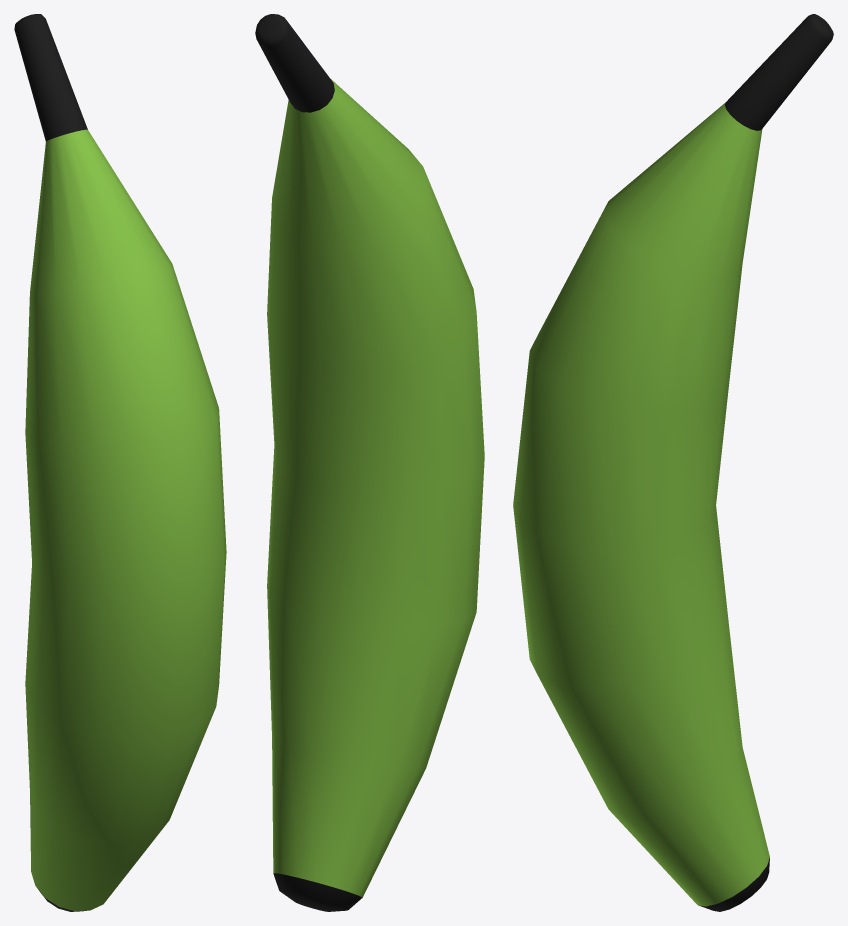
File: Banana_00.fbx
The picture shows the model from 3 angles, left to right: view 1: azimuth 30°, elevation 25°; view 2: azimuth 150°, elevation 25°; view 3: azimuth 270°, elevation 25°; orthographic projection. The views are drawn at different scales.
Visible parts, largest first — view 1: Banana_00; view 2: Banana_00; view 3: Banana_00.
Boxes of the visible parts, x1,y1,x2,y2 form: Banana_00: [14, 14, 226, 911]; Banana_00: [255, 14, 484, 911]; Banana_00: [513, 14, 833, 911].
Size of the model in its own units: 8.26 by 39.99 by 13.05.
